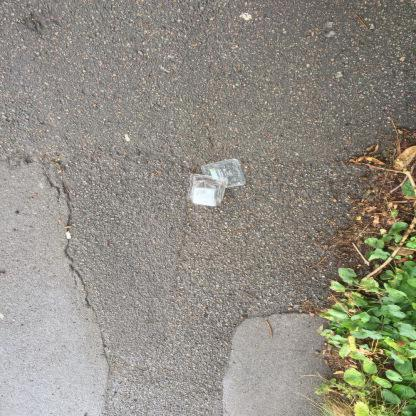Cigarette: (66, 230, 72, 239)
Plastic bag - wrapper: (201, 159, 246, 188)
Plastic container: (187, 173, 228, 206)
